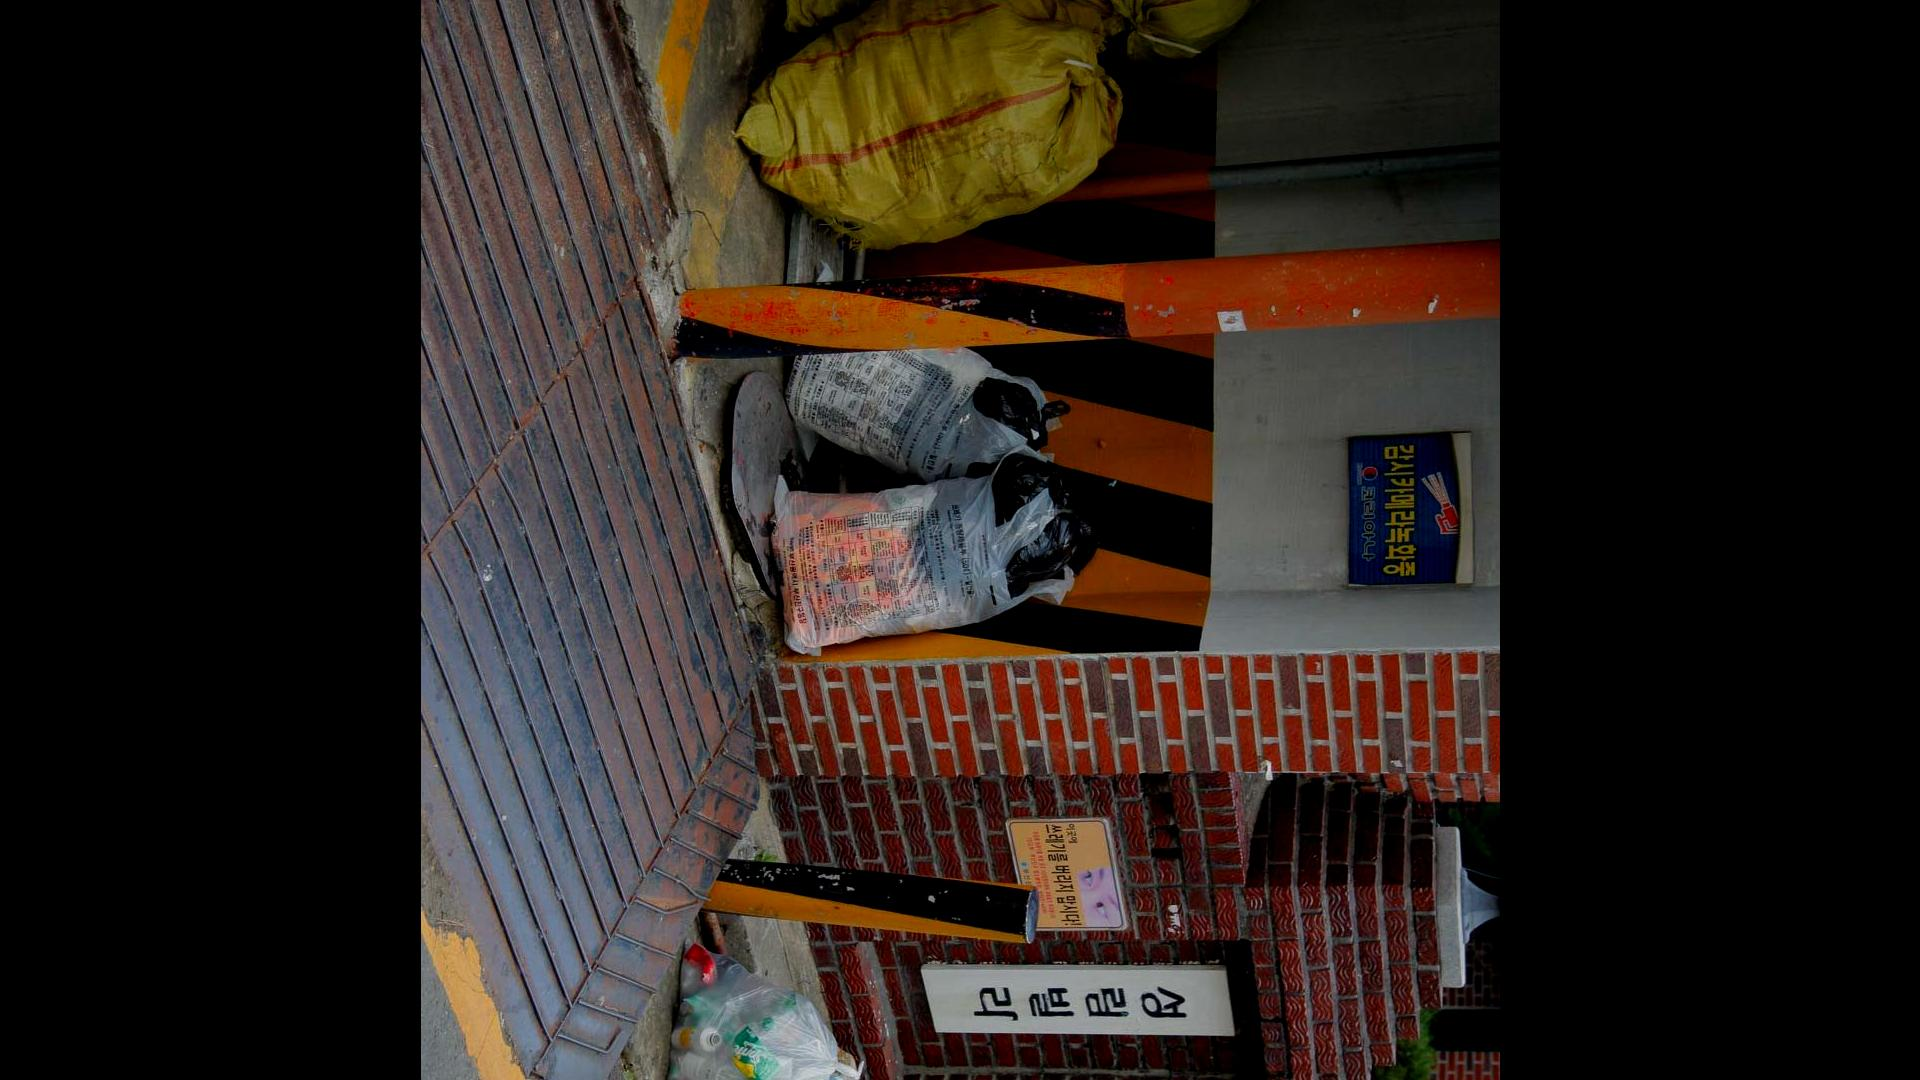white_bag: (762, 447, 1095, 669), (787, 342, 1076, 489), (650, 938, 887, 1080)
